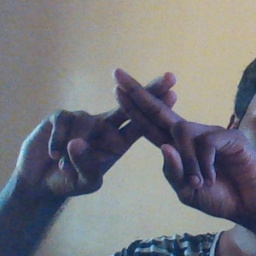F: (75, 59, 216, 172)
